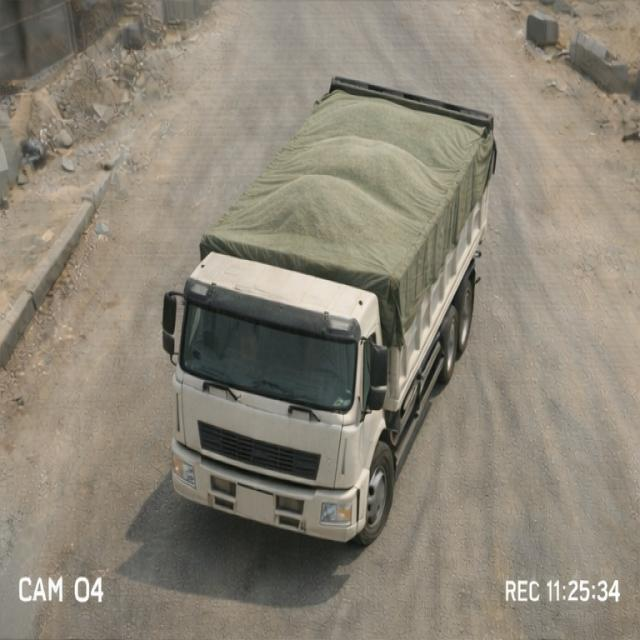trailer: (208, 78, 498, 243)
truck: (162, 62, 513, 530)
